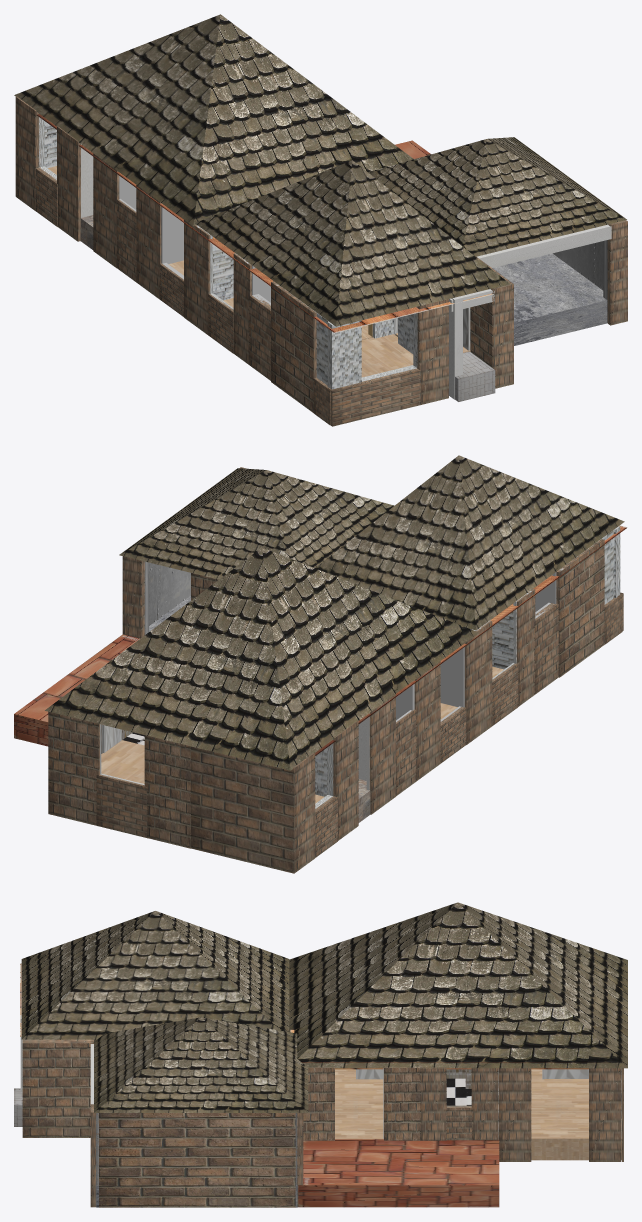
File: casa.obj
The picture shows the model from 3 angles, top to bottom: view 1: azimuth 30°, elevation 25°; view 2: azimuth 150°, elevation 25°; view 3: azimuth 270°, elevation 25°; orthographic projection. The views are drawn at different scales.
Parts seen in each view (by area): view 1: Tejado1, Tejado2, tejado3, Garage, Exterior13, Exterior23, Exterior3, Exterior26, Exterior25, Box001, Exterior16, Exterior15 (+19 smaller); view 2: Tejado1, Tejado2, tejado3, Exterior12, Exterior13, Exterior9, Exterior23, Exterior11, Alfresco, Exterior16, Exterior10, Box001 (+16 smaller); view 3: Tejado1, Tejado2, Exterior6, tejado3, Alfresco, Exterior3, FamilyMeals, Exterior7, Exterior8, Living1, ParedAlfresco5, ParedAlfresco4 (+7 smaller).
Boxes of the visible parts, left/top/right/bottom form: Tejado1: left=14, top=14, right=413, bottom=226; Tejado2: left=195, top=160, right=509, bottom=326; tejado3: left=368, top=137, right=626, bottom=256; Garage: left=492, top=253, right=607, bottom=345; Exterior13: left=16, top=97, right=210, bottom=334; Exterior23: left=271, top=281, right=316, bottom=412; Exterior3: left=470, top=256, right=513, bottom=388; Exterior26: left=328, top=368, right=420, bottom=426; Exterior25: left=416, top=299, right=448, bottom=404; Box001: left=136, top=185, right=161, bottom=299; Exterior16: left=93, top=153, right=119, bottom=268; Exterior15: left=57, top=126, right=80, bottom=241; Tejado1: left=45, top=547, right=478, bottom=770; Tejado2: left=315, top=455, right=624, bottom=630; tejado3: left=119, top=468, right=393, bottom=579; Exterior12: left=191, top=746, right=295, bottom=873; Exterior13: left=294, top=620, right=492, bottom=872; Exterior9: left=48, top=711, right=99, bottom=825; Exterior23: left=556, top=539, right=604, bottom=677; Exterior11: left=144, top=735, right=190, bottom=848; Alfresco: left=14, top=634, right=139, bottom=746; Exterior16: left=369, top=694, right=395, bottom=814; Exterior10: left=96, top=774, right=147, bottom=837; Box001: left=414, top=661, right=440, bottom=781; Tejado1: left=289, top=902, right=627, bottom=1068; Tejado2: left=21, top=911, right=289, bottom=1039; Exterior6: left=99, top=1113, right=295, bottom=1207; tejado3: left=94, top=1017, right=308, bottom=1112; Alfresco: left=298, top=1139, right=499, bottom=1207; Exterior3: left=22, top=1039, right=93, bottom=1137; FamilyMeals: left=531, top=1077, right=621, bottom=1160; Exterior7: left=499, top=1068, right=531, bottom=1161; Exterior8: left=589, top=1068, right=621, bottom=1161; Living1: left=335, top=1078, right=383, bottom=1139; ParedAlfresco5: left=420, top=1067, right=472, bottom=1140; ParedAlfresco4: left=384, top=1067, right=420, bottom=1140.
Size of the model in its own units: 45.31 by 28.28 by 76.36.
